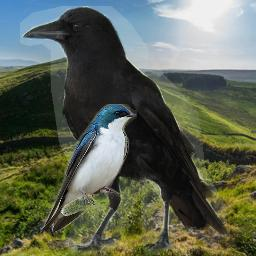Crow: (20, 6, 229, 255)
Swallow: (40, 104, 137, 235)
